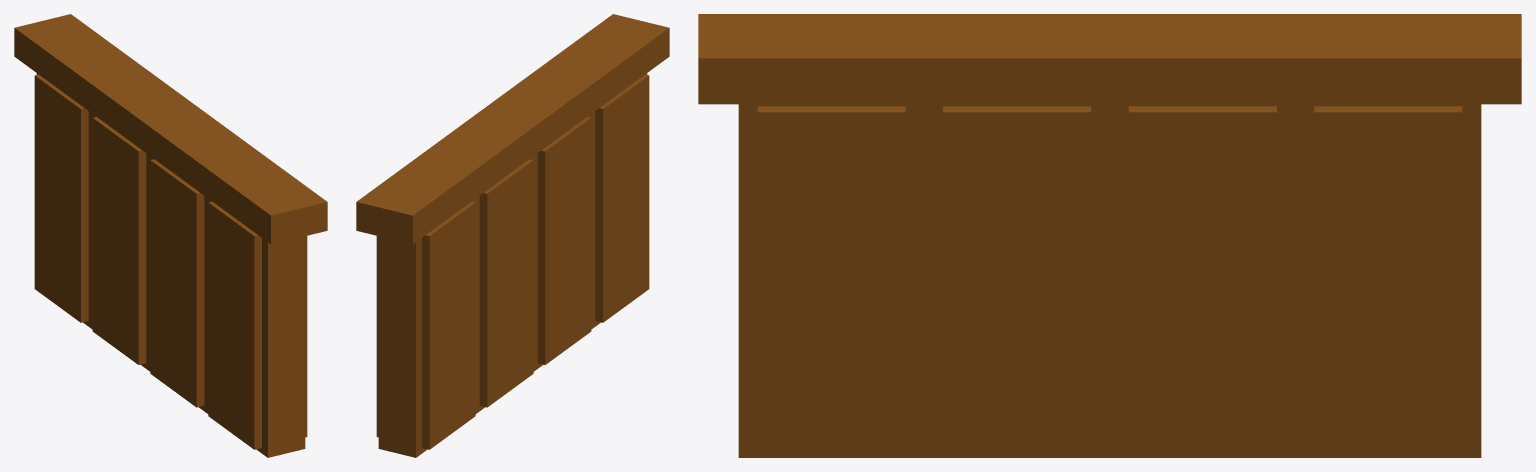
Rendered from wall_segment.glb.
The picture shows the model from 3 angles, left to right: view 1: azimuth 30°, elevation 25°; view 2: azimuth 150°, elevation 25°; view 3: azimuth 270°, elevation 25°; orthographic projection. The views are drawn at different scales.
Parts seen in each view (by area): view 1: Cube.002; view 2: Cube.002; view 3: Cube.002.
Part boxes in pixels (bbox=[...]): Cube.002: bbox=[14, 14, 327, 457]; Cube.002: bbox=[356, 14, 669, 457]; Cube.002: bbox=[698, 14, 1521, 457].
Size of the model in its own units: 0.2823 by 1.21 by 2.22.
